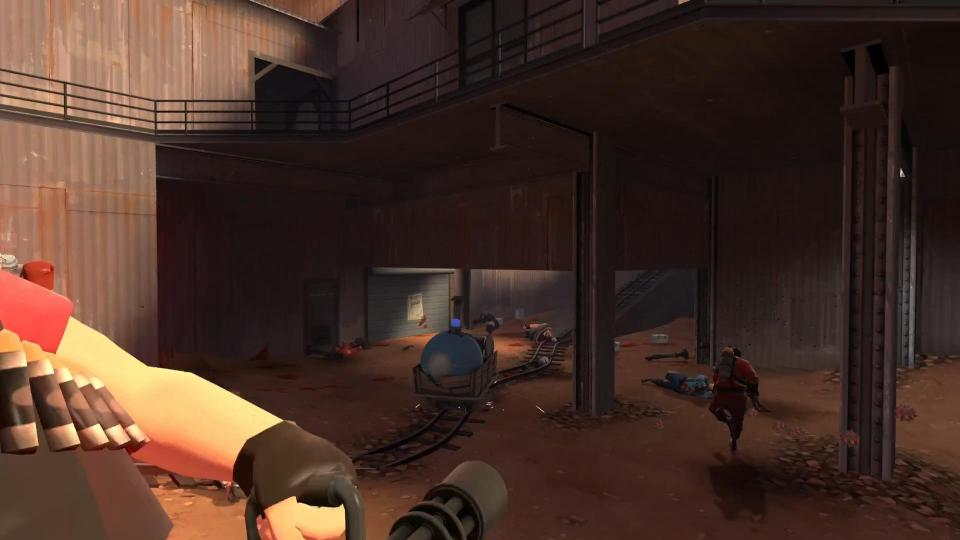Enemy: (702, 345, 766, 454), (638, 364, 714, 405)
